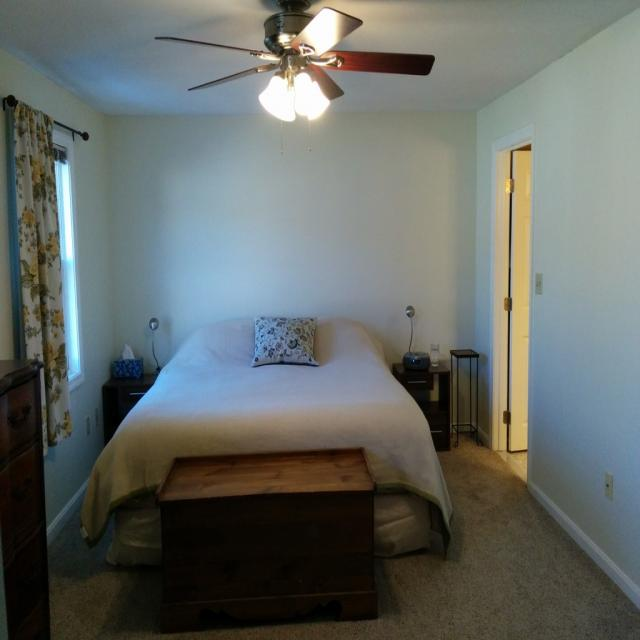Bulb: (152, 0, 431, 156)
